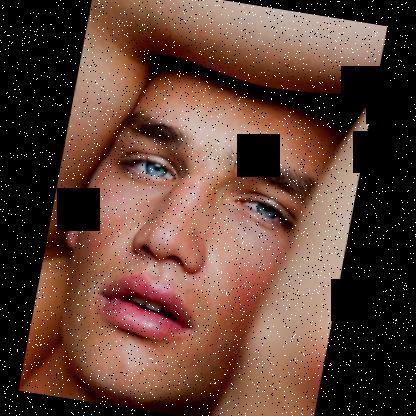Male: (42, 47, 345, 416)
